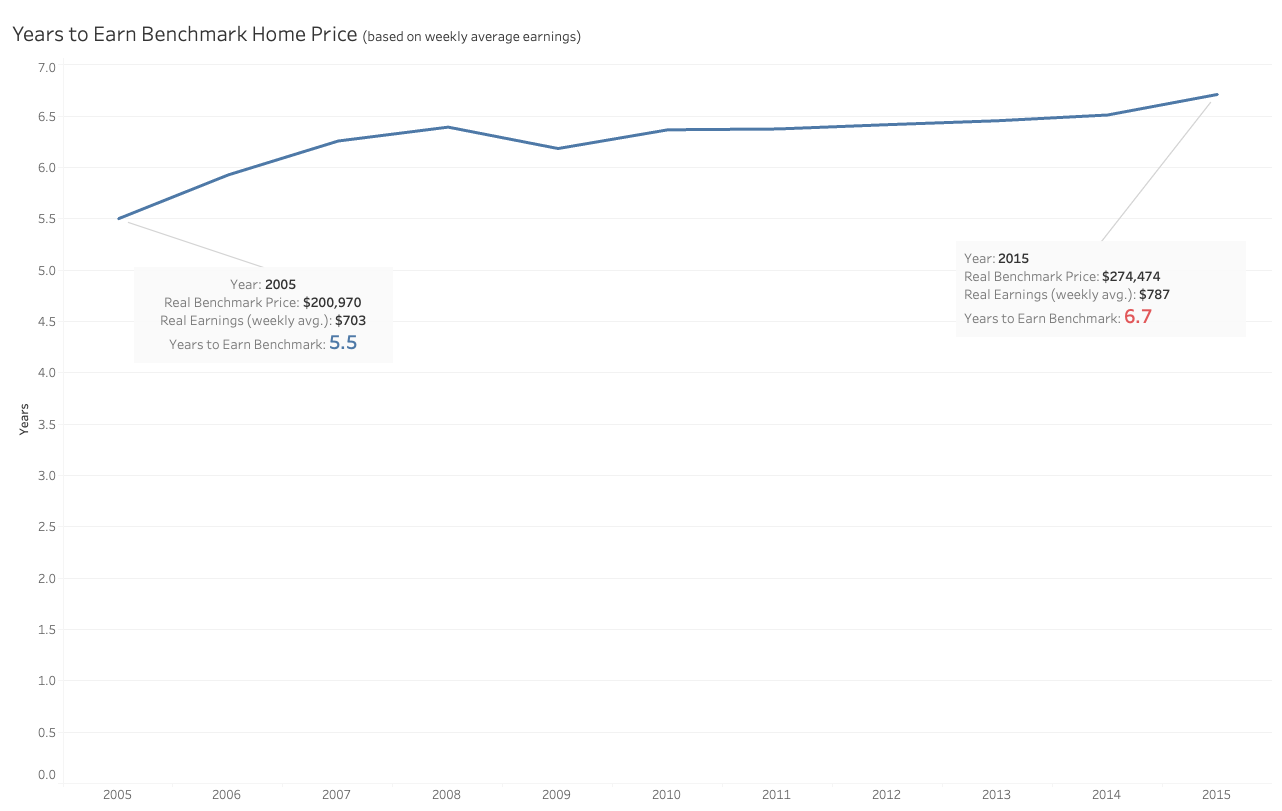

The dashboard page shown, as its layout file describes it:
{"tool":"tableau","page":{"name":"Task 6","canvas":[1000,800],"ordinal":3},"visuals":[{"type":"worksheet","title":"Task 6 | House Prices vs Earnings","mark":"Automatic","cols":["Date (weekly_earnings_clean.csv)"],"box":[8,8,824,784]},{"type":"legend","title":"Task 6 | House Prices vs Earnings","param":"[federated.1okl8ay0m9et4017je1rc01q96pp].[:Measure Names]","box":[359,176,398,51]}]}

Visuals, with their boxes on the page's 1000x800 design canvas (x1, y1, x2, y2). These are canvas units, not pixel positions in the 1282x811 screenshot, which may show the page scaled, cropped or inside an application window:
"Task 6 | House Prices vs Earnings" worksheet: BBox(8, 8, 832, 792)
"Task 6 | House Prices vs Earnings" legend: BBox(359, 176, 757, 227)
